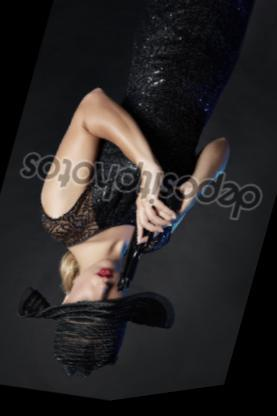pistol: (113, 180, 188, 307)
